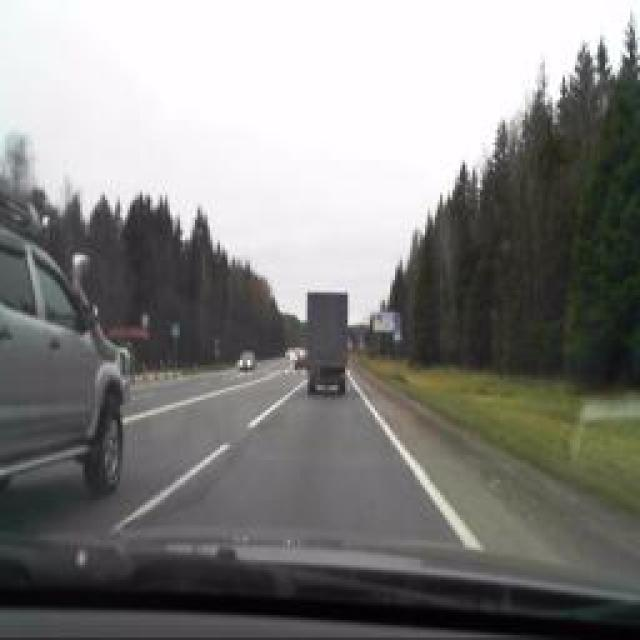sign: (392, 312, 402, 326)
